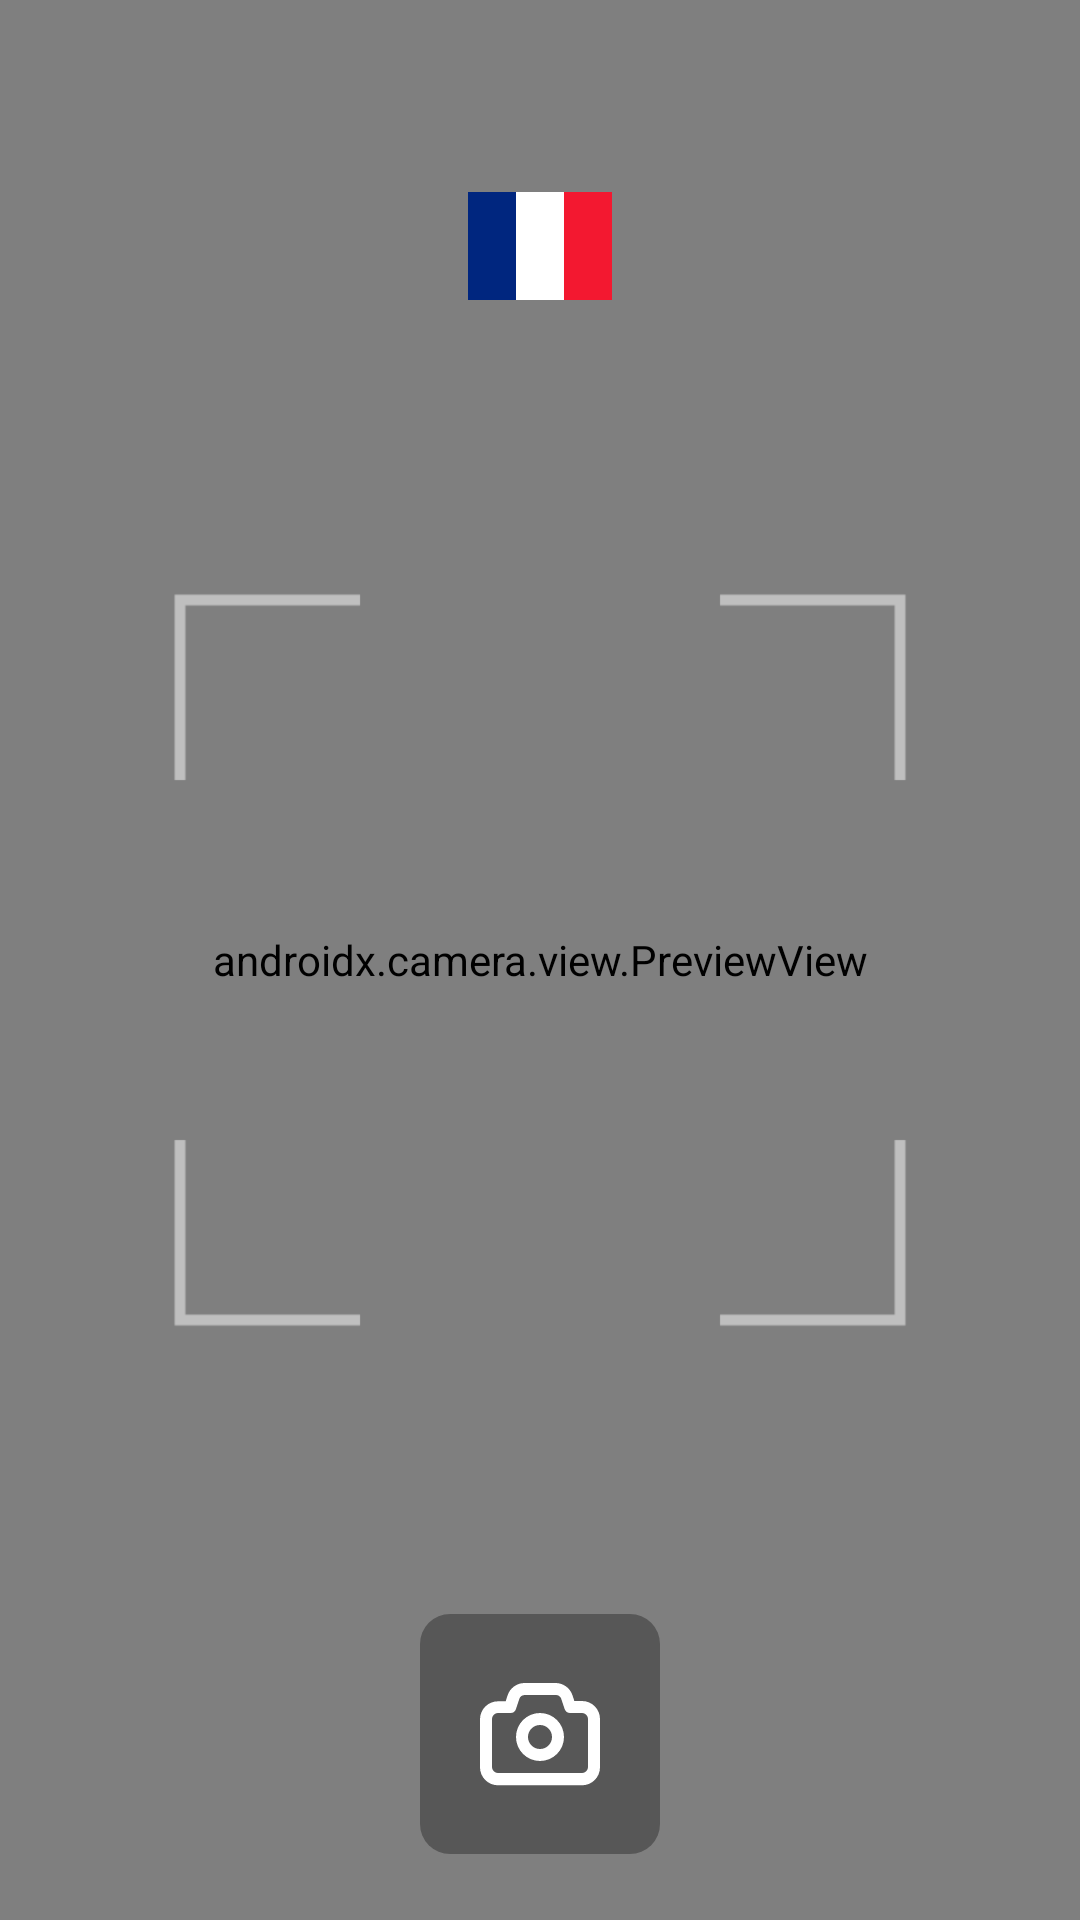

Icons on this 1080px x 1920px Android screen, each with the point to tap as point (x, y):
Language Button: point (540, 246)
